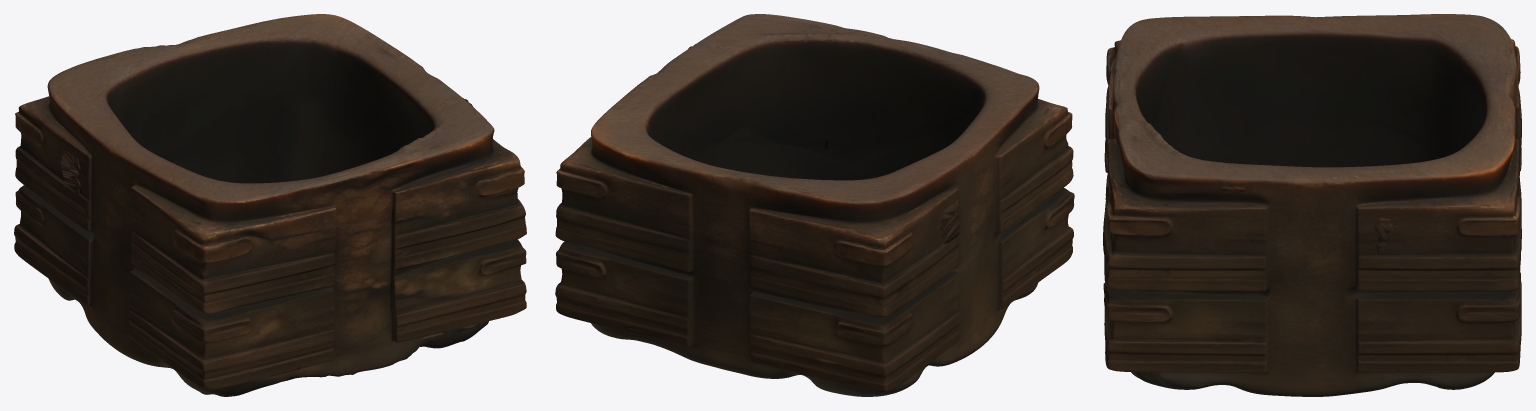
Rendered from songmingqing.glb.
3 views of the same model, side by side, from view 1: azimuth 30°, elevation 25°; view 2: azimuth 150°, elevation 25°; view 3: azimuth 270°, elevation 25° (orthographic). The views are drawn at different scales.
Visible parts, largest first — view 1: node_0; view 2: node_0; view 3: node_0.
Boxes of the visible parts, bbox=[...] form: node_0: bbox=[14, 14, 526, 396]; node_0: bbox=[555, 14, 1074, 396]; node_0: bbox=[1103, 14, 1521, 396].
Bounding box in the file's own units: 0.8369 × 0.492 × 0.8299.
Materials: 1 (1 with a texture image).
